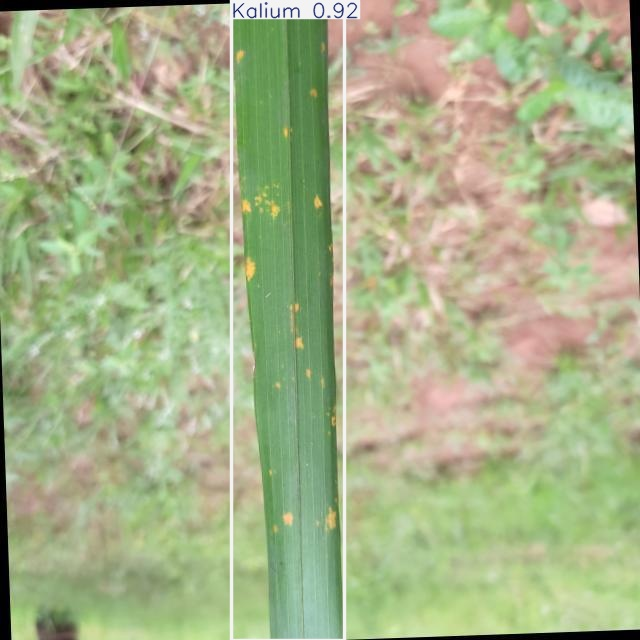Kalium: (231, 0, 344, 640)
